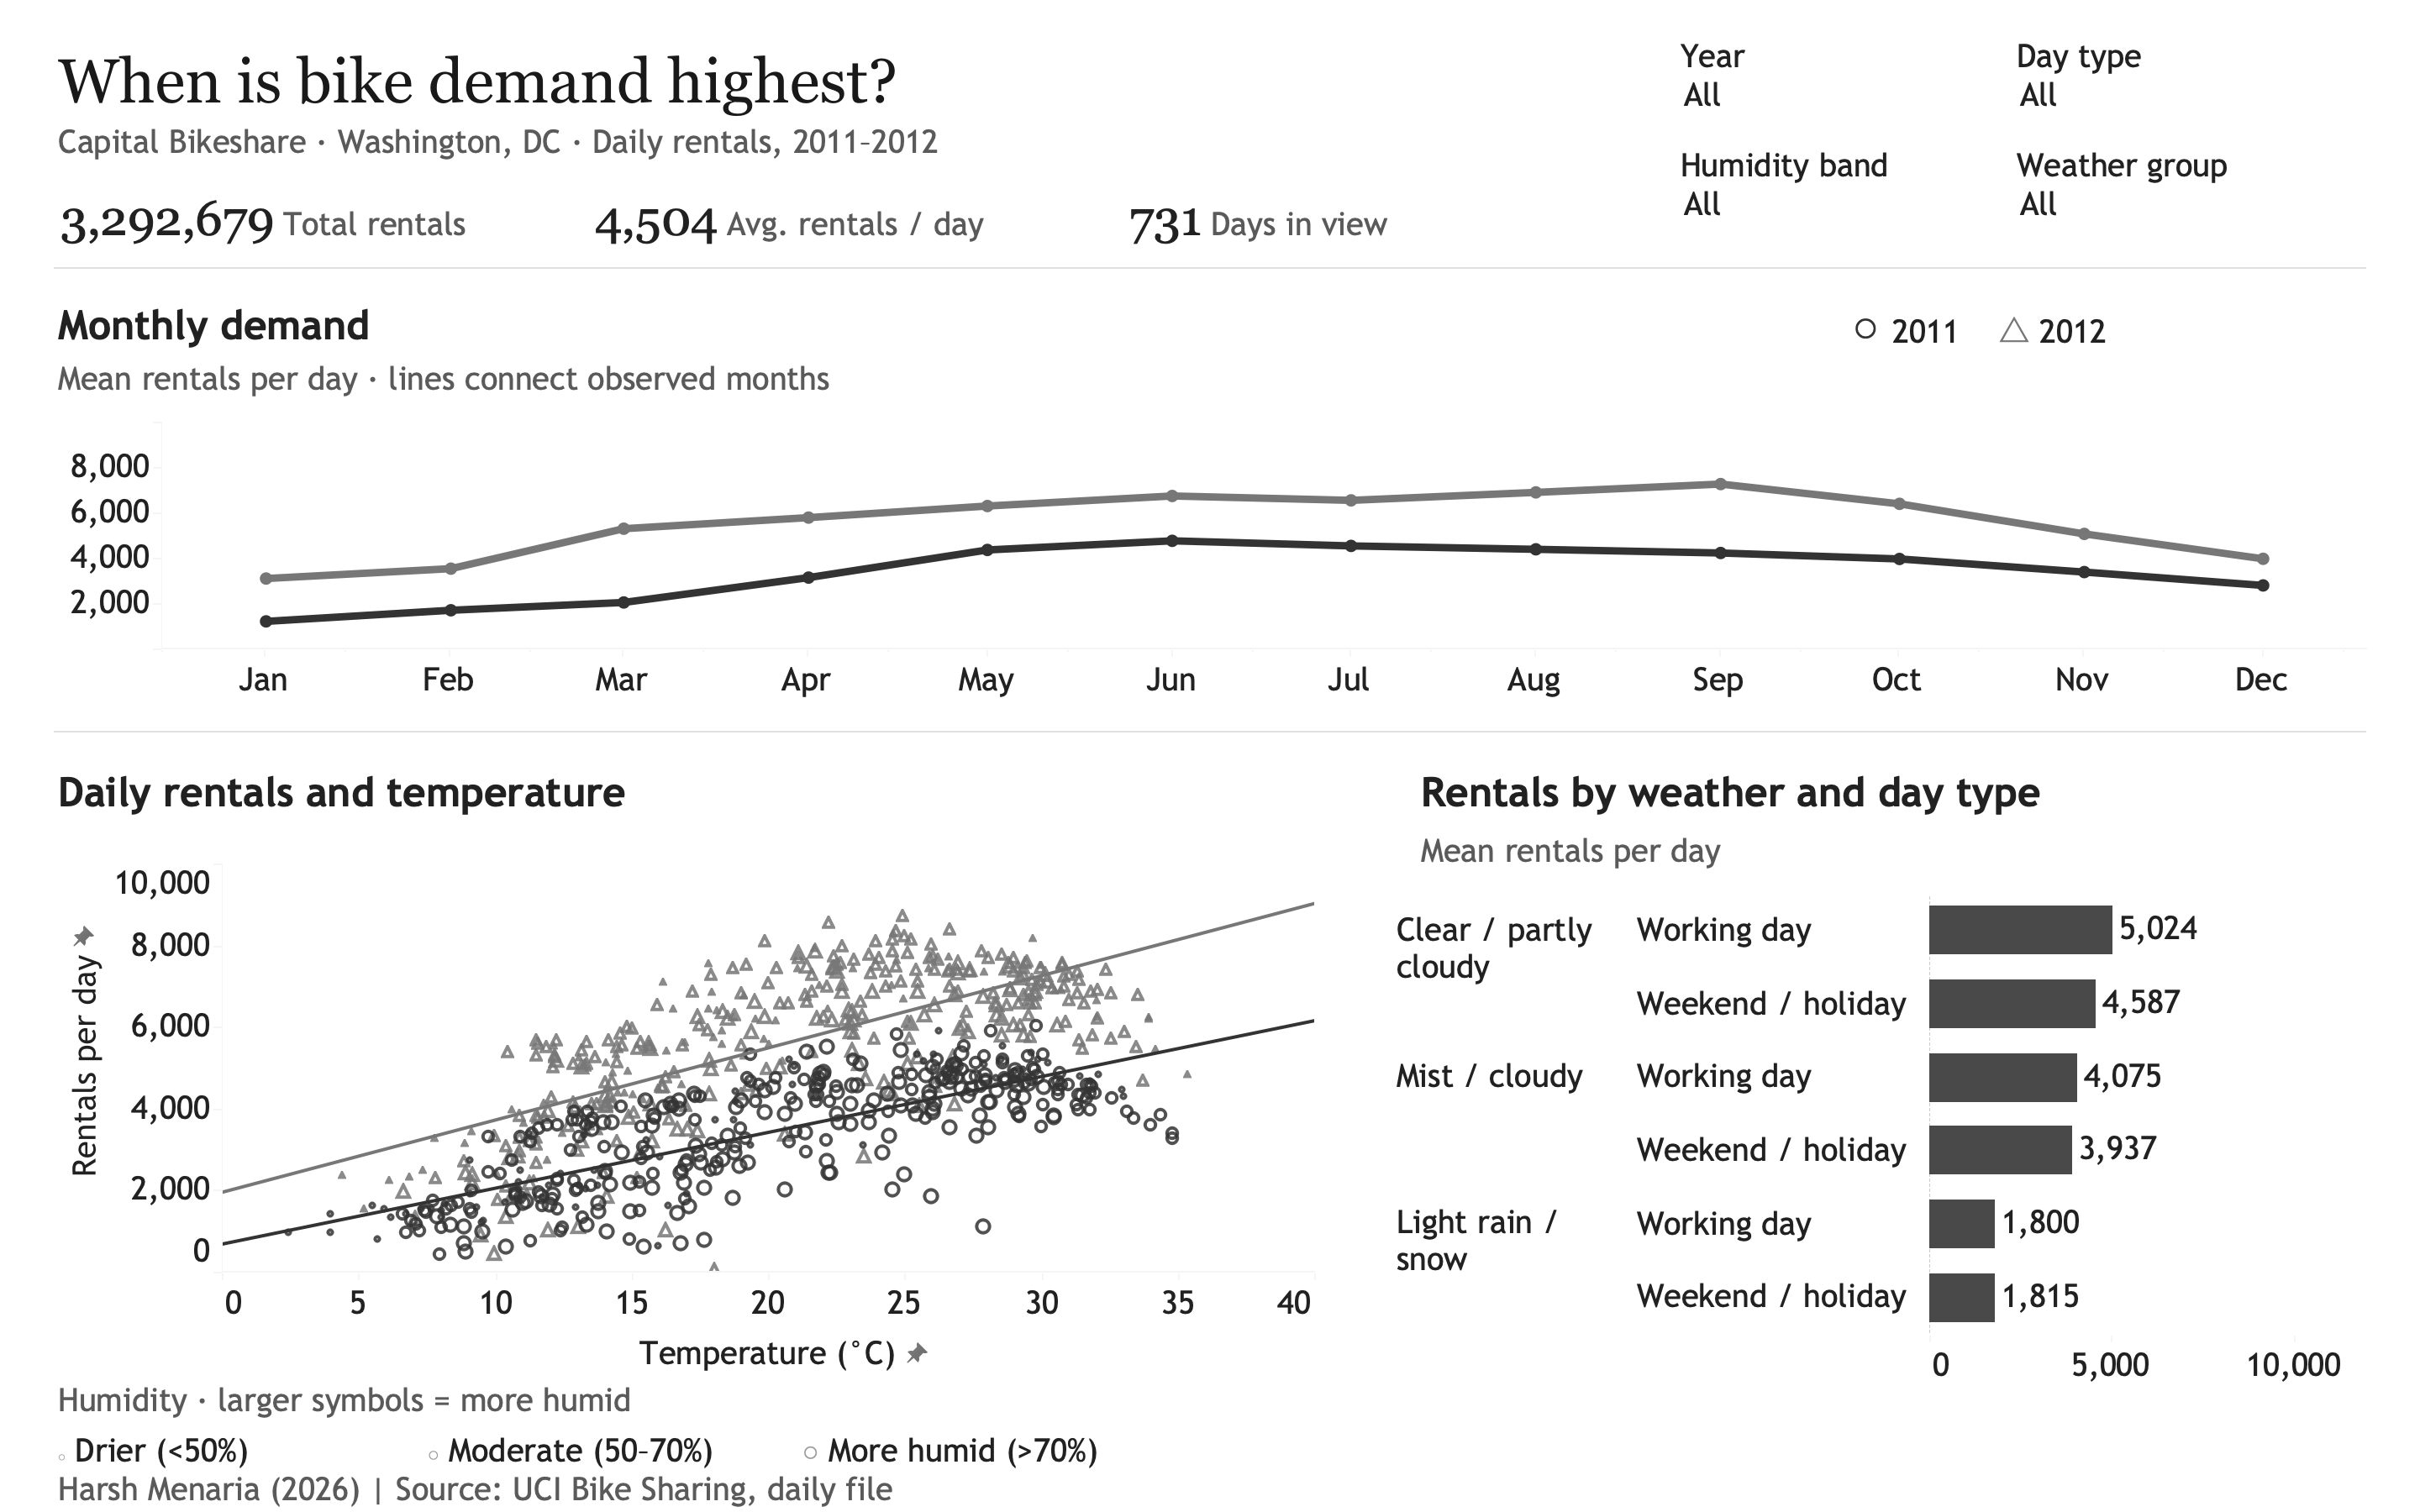

The dashboard page shown, as its layout file describes it:
{"tool":"tableau","page":{"name":"Bike demand | Prototype","canvas":[1440,900],"ordinal":0},"visuals":[{"type":"blank","box":[0,0,1440,900]},{"type":"filter","title":"01 Monthly demand","param":"[federated.bike_demand].[none:Year:nk]","box":[1000,21,180,54]},{"type":"filter","title":"01 Monthly demand","param":"[federated.bike_demand].[none:DayType:nk]","box":[1200,21,208,54]},{"type":"text","box":[32,23,925,52]},{"type":"text","box":[32,86,925,30]},{"type":"filter","title":"02 Temperature and rentals","param":"[federated.bike_demand].[none:Calculation_1907443823489024:nk]","box":[1000,86,180,54]},{"type":"filter","title":"01 Monthly demand","param":"[federated.bike_demand].[none:Weather:nk]","box":[1200,86,208,54]},{"type":"blank","box":[32,159,1376,1]},{"type":"text","box":[1100,178,308,34]},{"type":"text","box":[32,179,1376,29]},{"type":"text","box":[32,214,1376,24]},{"type":"worksheet","title":"01 Monthly demand","mark":"Line","rows":["DailyRentals"],"cols":["Calculation_1435546893139968"],"box":[32,251,1376,165]},{"type":"blank","box":[32,435,1376,1]},{"type":"text","box":[32,457,750,29]},{"type":"text","box":[843,457,565,29]},{"type":"text","box":[843,492,565,30]},{"type":"worksheet","title":"02 Temperature and rentals","mark":"Shape","rows":["DailyRentals"],"cols":["TemperatureC"],"box":[32,514,750,310]},{"type":"worksheet","title":"03 Weather and day type","mark":"Bar","rows":["Weather","DayType"],"cols":["DailyRentals"],"box":[825,532,583,292]},{"type":"text","box":[32,819,600,30]},{"type":"text","box":[32,846,216,35]},{"type":"text","box":[252,846,223.2,35]},{"type":"text","box":[475.2,846,302.4,35]},{"type":"text","box":[32,875,1376,23]}]}

Visuals, with their boxes in screenshot pixels (x1, y1, x2, y2), scaled from the page's 1440x900 canvas onto the 2420x1512 screenshot:
blank: (0,0,2419,1511)
"01 Monthly demand" filter: (1681,35,1983,126)
"01 Monthly demand" filter: (2017,35,2366,126)
text: (54,39,1608,126)
text: (54,144,1608,195)
"02 Temperature and rentals" filter: (1681,144,1983,235)
"01 Monthly demand" filter: (2017,144,2366,235)
blank: (54,267,2366,269)
text: (1849,299,2366,356)
text: (54,301,2366,349)
text: (54,360,2366,400)
"01 Monthly demand" worksheet (Line marks): (54,422,2366,699)
blank: (54,731,2366,732)
text: (54,768,1314,816)
text: (1417,768,2366,816)
text: (1417,827,2366,877)
"02 Temperature and rentals" worksheet (Shape marks): (54,864,1314,1384)
"03 Weather and day type" worksheet (Bar marks): (1386,894,2366,1384)
text: (54,1376,1062,1426)
text: (54,1421,417,1480)
text: (423,1421,798,1480)
text: (798,1421,1307,1480)
text: (54,1470,2366,1509)
